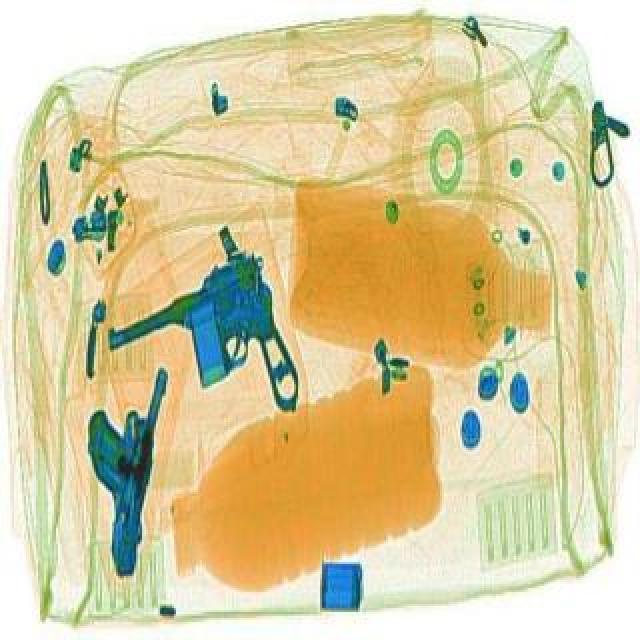gun: (92, 254, 332, 474), (72, 368, 164, 584)
